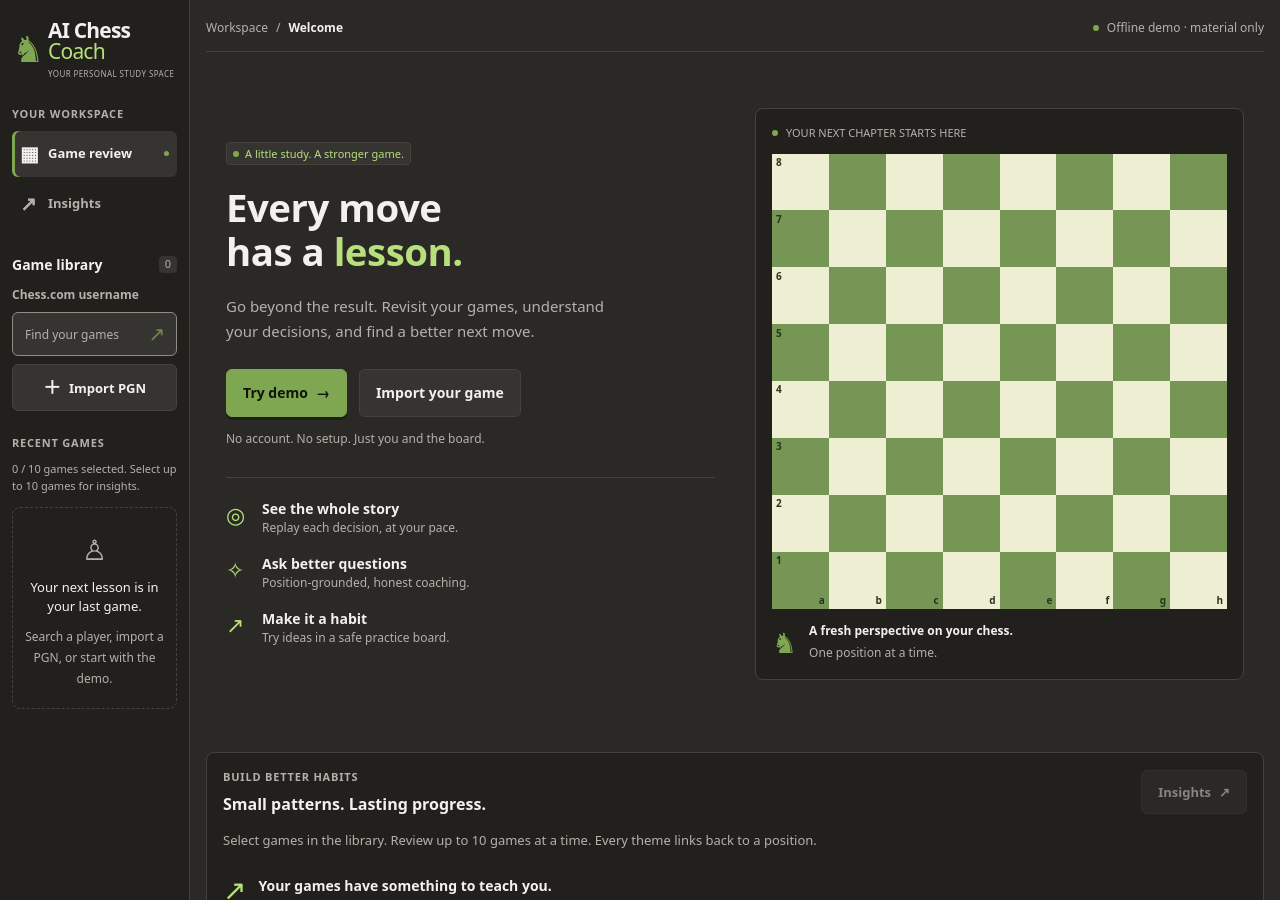
Test case: complete workspace › keeps coach responses and history tied to the selected position
Step 1. Click the button "Try demo →" → (286, 393), box [226,369,347,417]
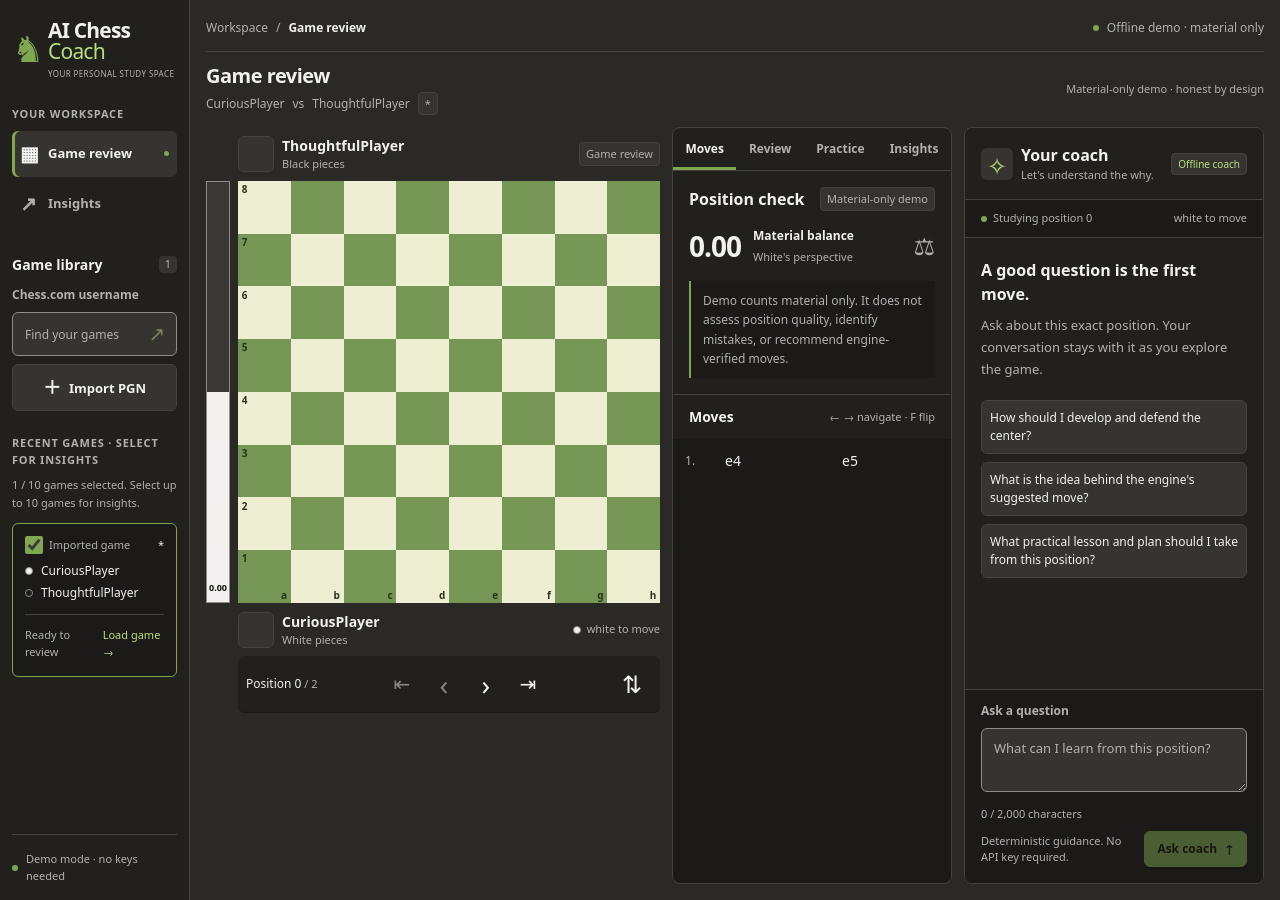
Result: the text "Position 0" is shown at [246,675,302,692]
Step 2. Type "What should I focus on?" into the text box labelled "Ask a question" → (1114, 760), box [981,728,1247,792]
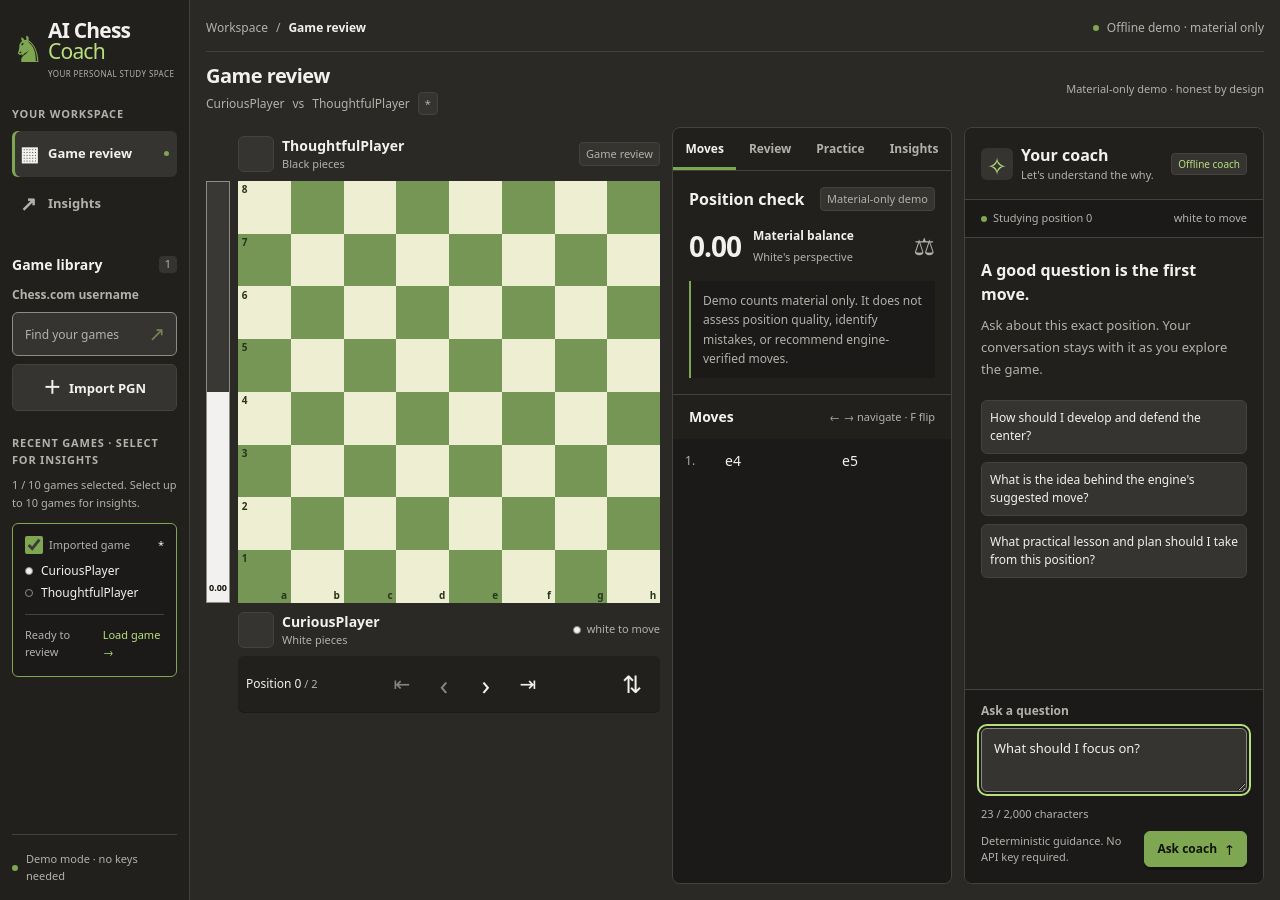
Step 3. Click the button "Ask coach ↑" → (1196, 849), box [1144,831,1247,867]
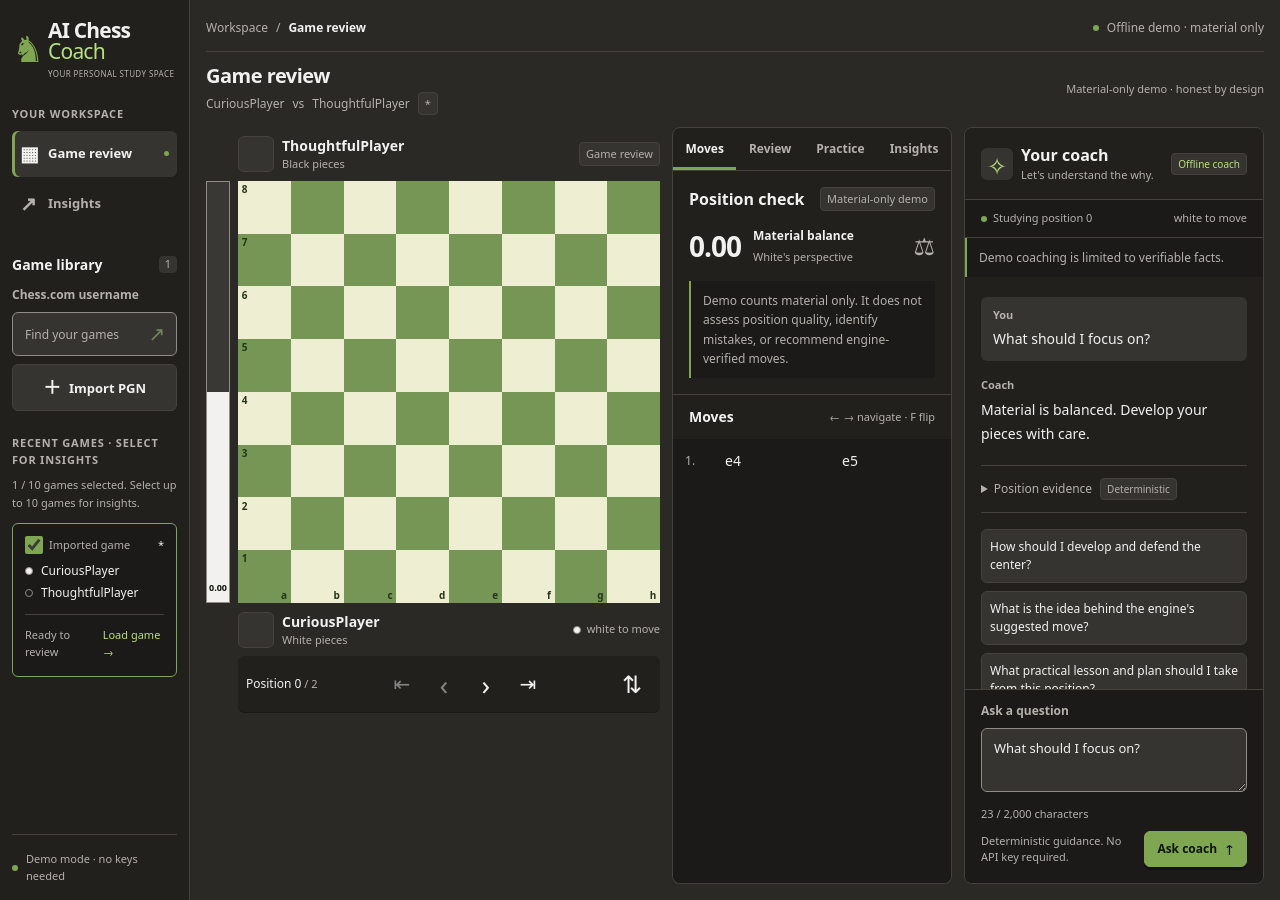
Result: the text "Material is balanced. Develop your pieces with care." is shown at [981,398,1247,445]
Step 4. Click the button named "Next move" → (486, 684), box [466,664,506,704]
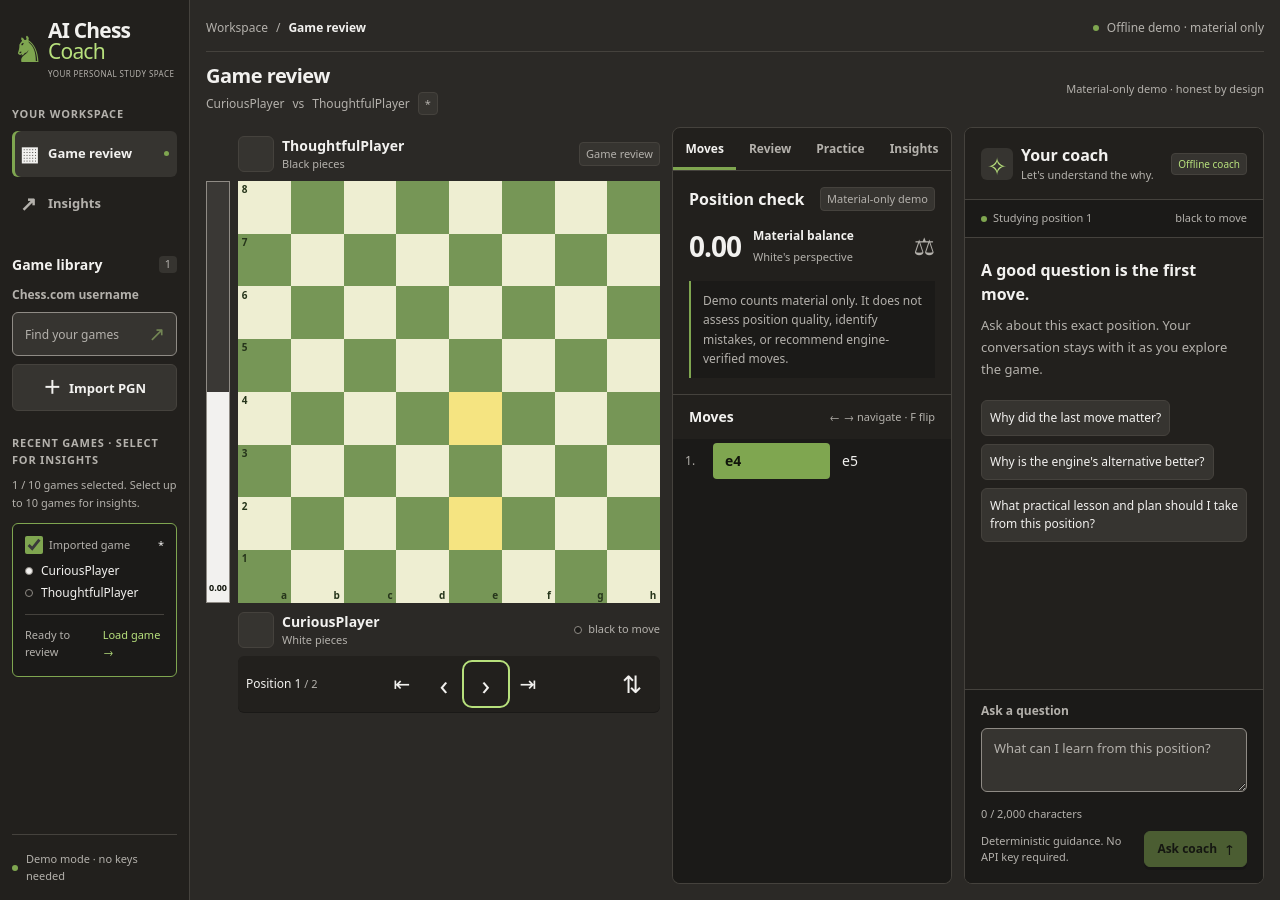
Result: the text "Material is balanced. Develop your pieces with care." is gone
Step 5. Click the button named "Previous move" → (444, 684), box [424,664,464,704]
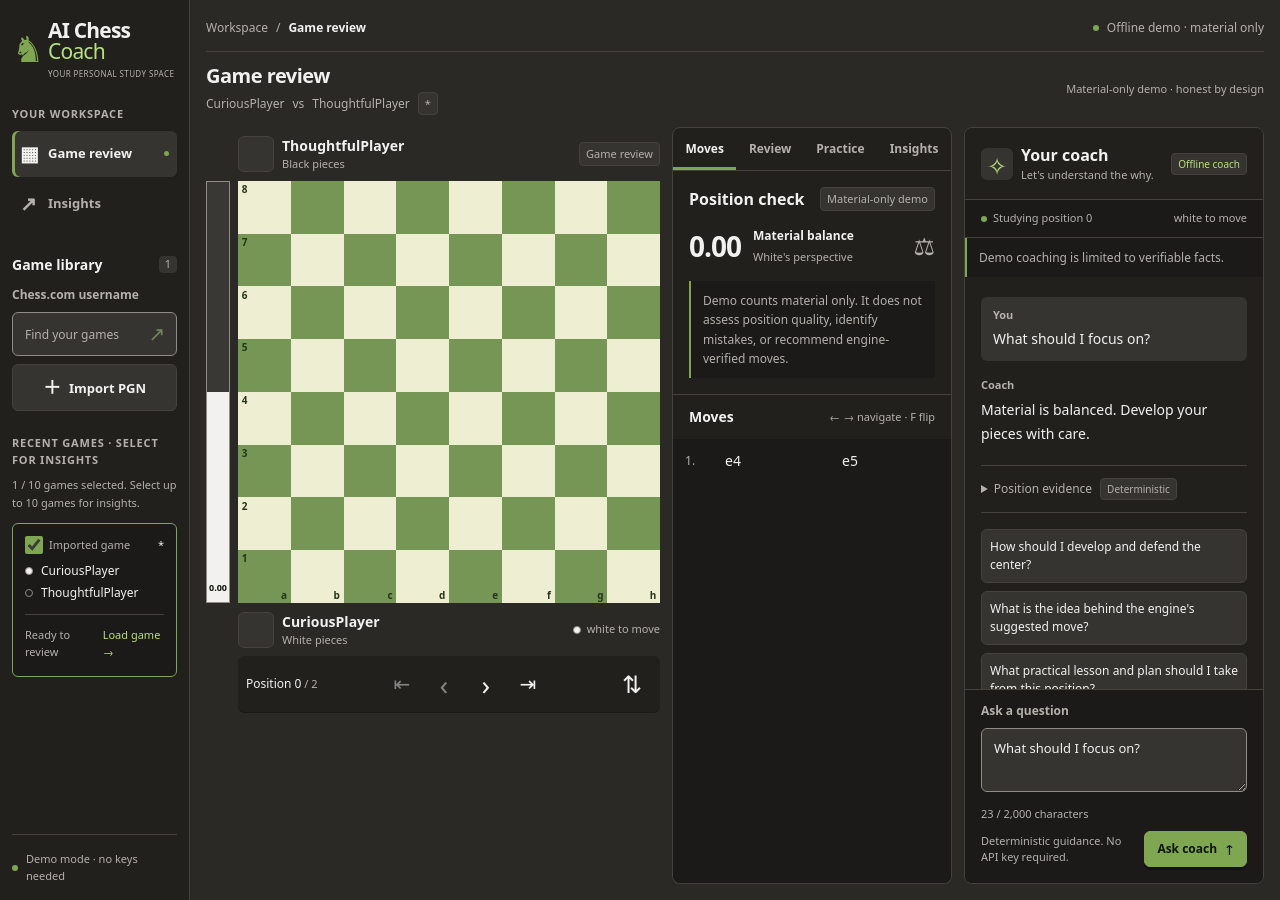
Result: the text "Material is balanced. Develop your pieces with care." is shown at [981,398,1247,445]
